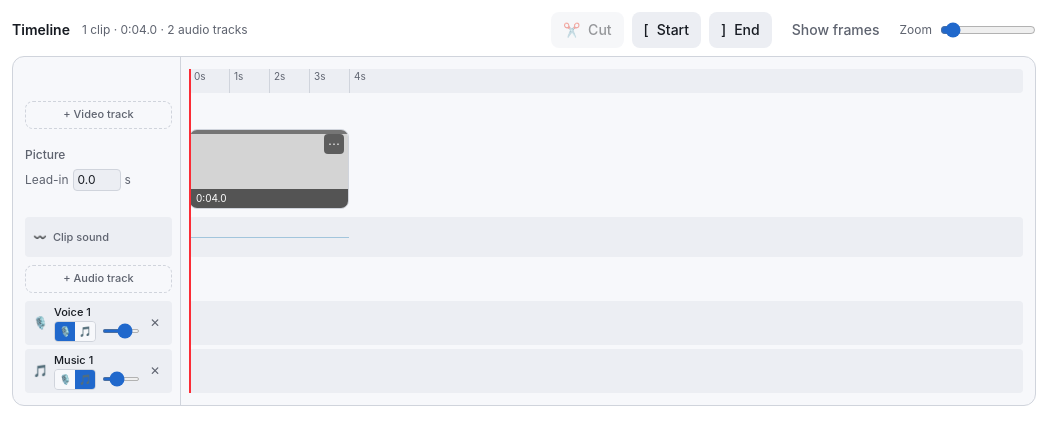
Test case: fixing a clip’s audio › greys the item out on a deployment with no ElevenLabs key
This screenshot has width=1048, height=423.
What coordinates should you click on to do the following:
click the button named "Actions for lighthouse.mp4"
I would click on:
 (334, 144)
Its box is [324, 134, 344, 154].
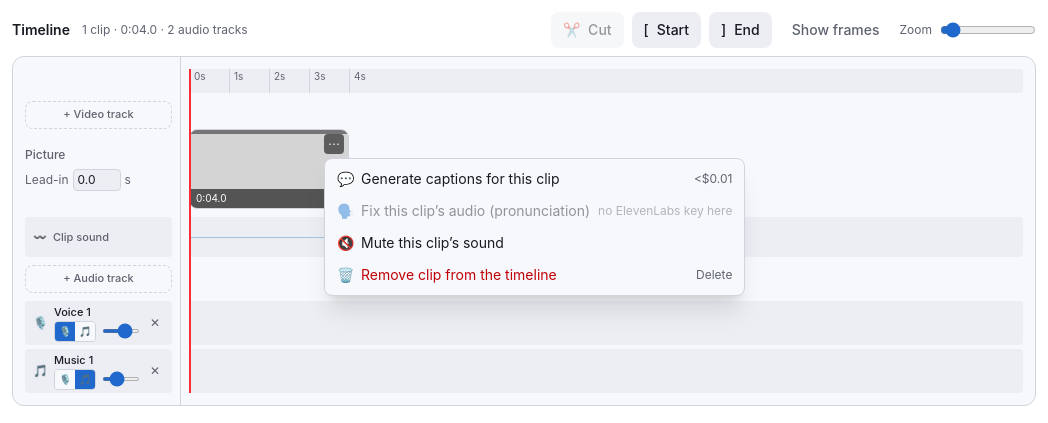
Now the menu item "Fix this clip’s audio" is disabled, box [325, 195, 744, 227]
